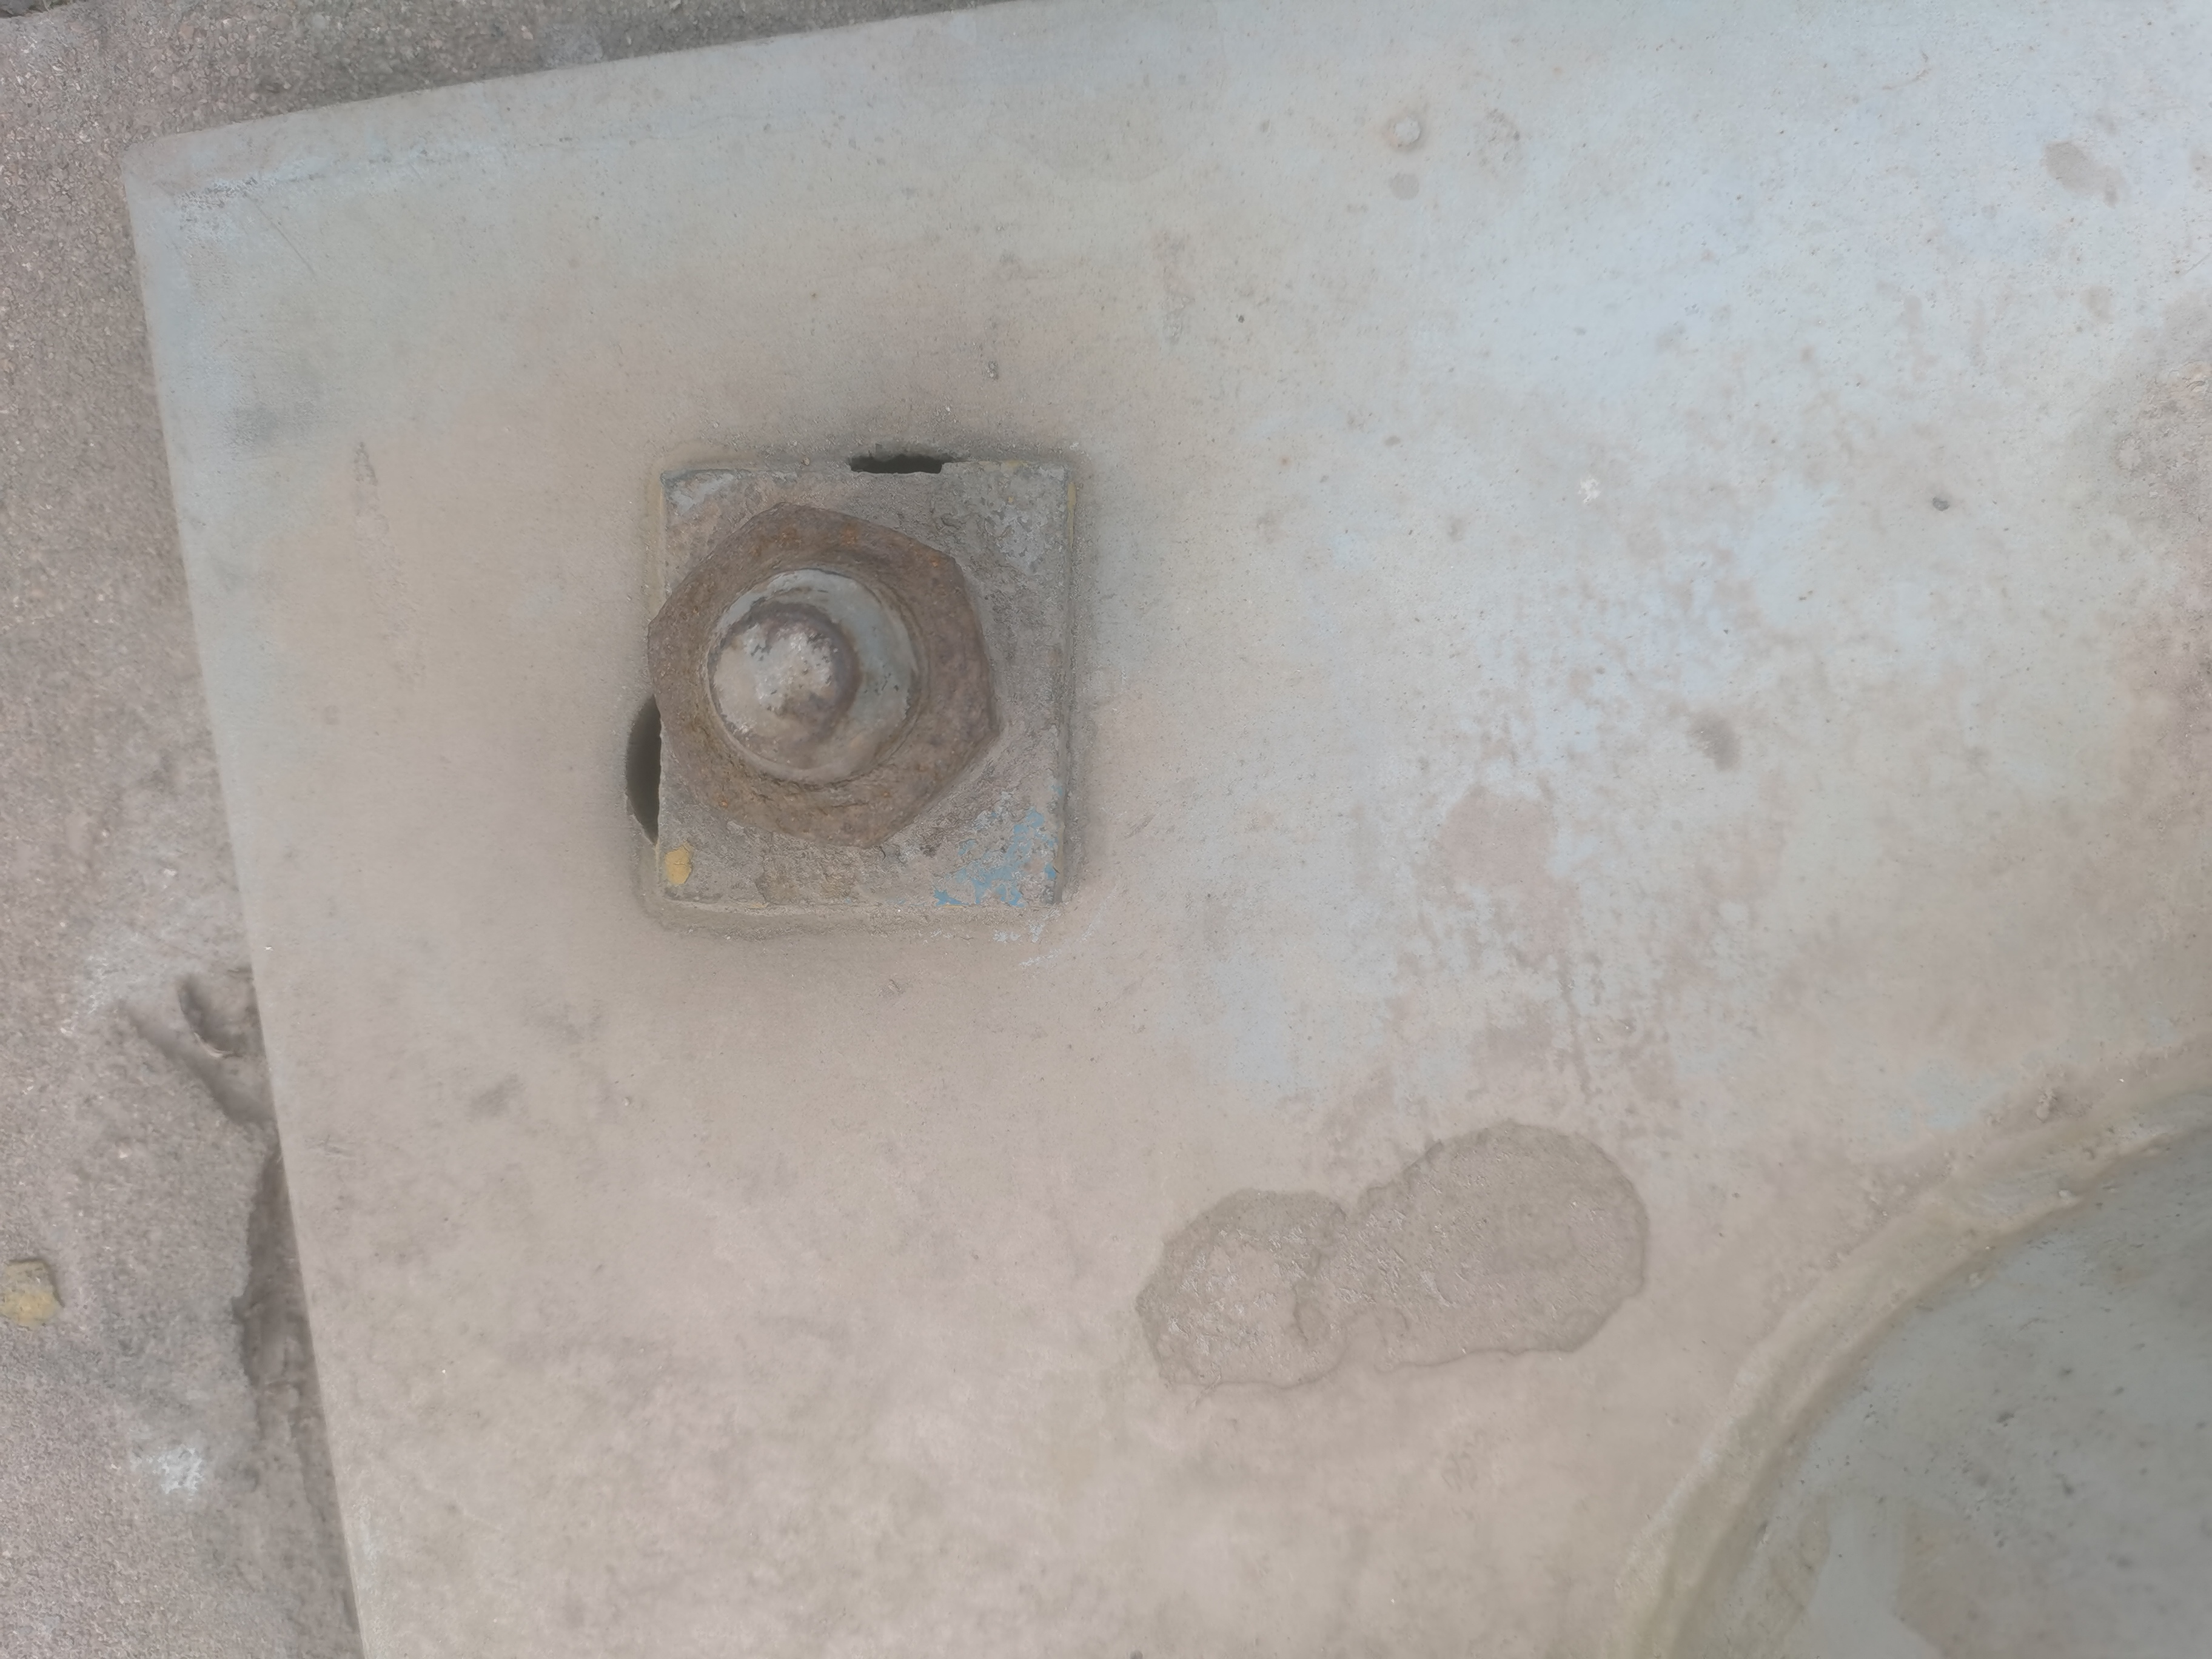bolt_b: (637, 490, 1003, 856)
